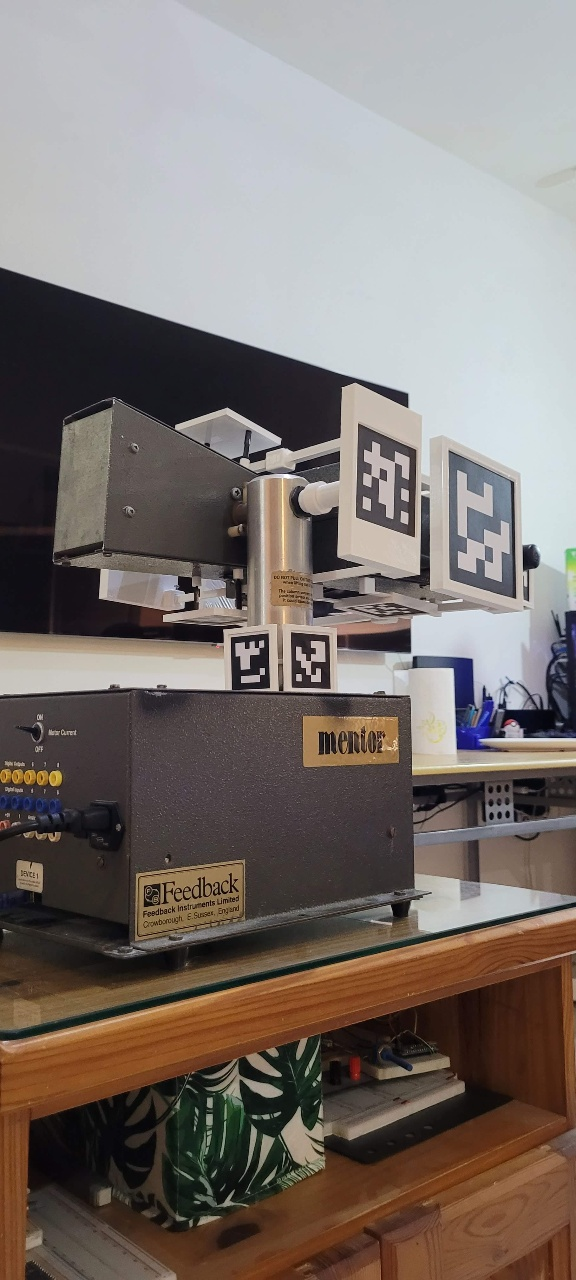Robot: (44, 203, 576, 1127)
